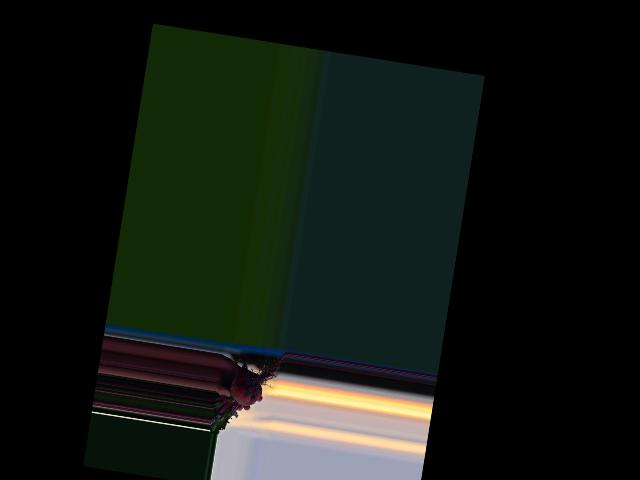beet: (209, 343, 286, 442)
